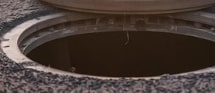open_manhole: (17, 18, 210, 76)
